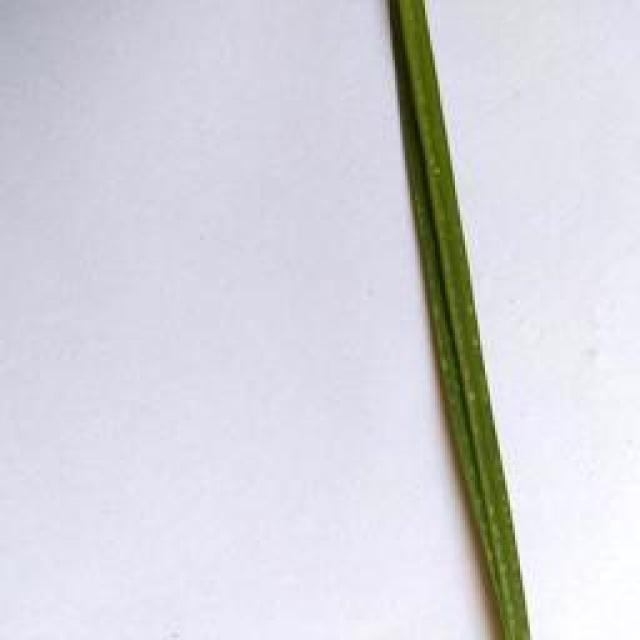Healthy-Plant: (386, 0, 534, 640)
